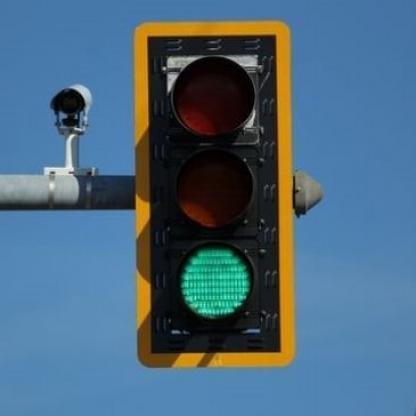green: (148, 35, 280, 351)
